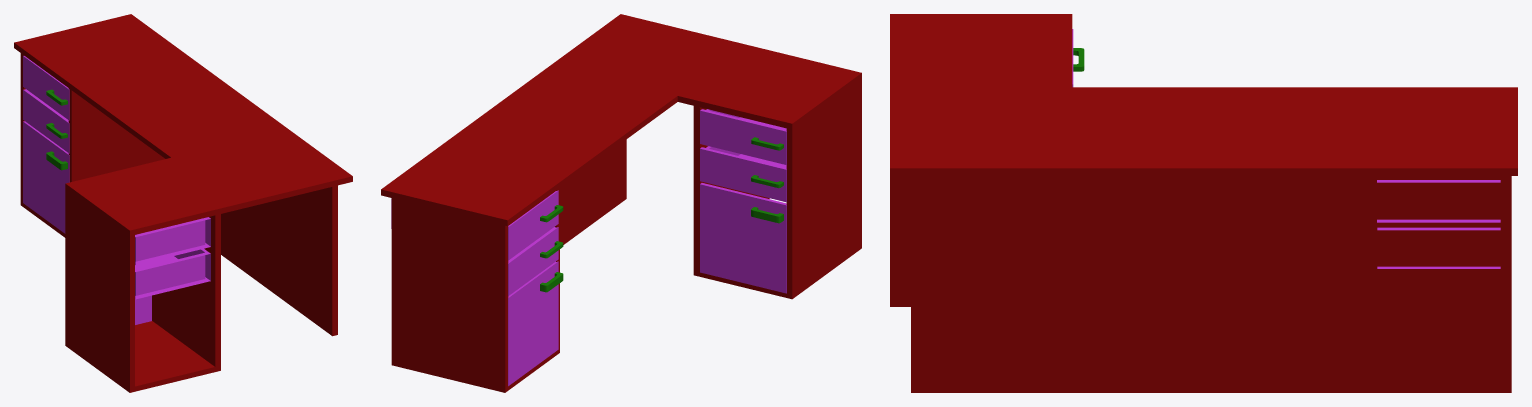
The model's file is zzza.fbx.
The picture shows the model from 3 angles, left to right: view 1: azimuth 30°, elevation 25°; view 2: azimuth 150°, elevation 25°; view 3: azimuth 270°, elevation 25°; orthographic projection. The views are drawn at different scales.
Visible parts, largest first — view 1: Bureau, Tir_007, Tir_005, Tir_003, Tir_008, Tir_006, Tir_004; view 2: Bureau, Tir_004, Tir_007, Tir_005, Tir_003, Tir_008, Tir_006; view 3: Bureau, Tir_006, Tir_008.
Boxes of the visible parts, x1,y1,x2,y2 form: Bureau: (14, 14, 352, 392); Tir_007: (23, 121, 69, 233); Tir_005: (135, 248, 210, 299); Tir_003: (135, 217, 210, 265); Tir_008: (23, 89, 69, 153); Tir_006: (23, 56, 69, 120); Tir_004: (135, 295, 151, 324); Bureau: (381, 14, 861, 392); Tir_004: (700, 183, 786, 293); Tir_007: (508, 261, 563, 386); Tir_005: (700, 146, 786, 202); Tir_003: (700, 109, 786, 164); Tir_008: (508, 227, 563, 295); Tir_006: (391, 190, 563, 260); Bureau: (890, 14, 1517, 392); Tir_006: (1377, 180, 1500, 222); Tir_008: (1377, 227, 1500, 268).
Bounding box in the file's own units: 108 × 75.06 × 186.
